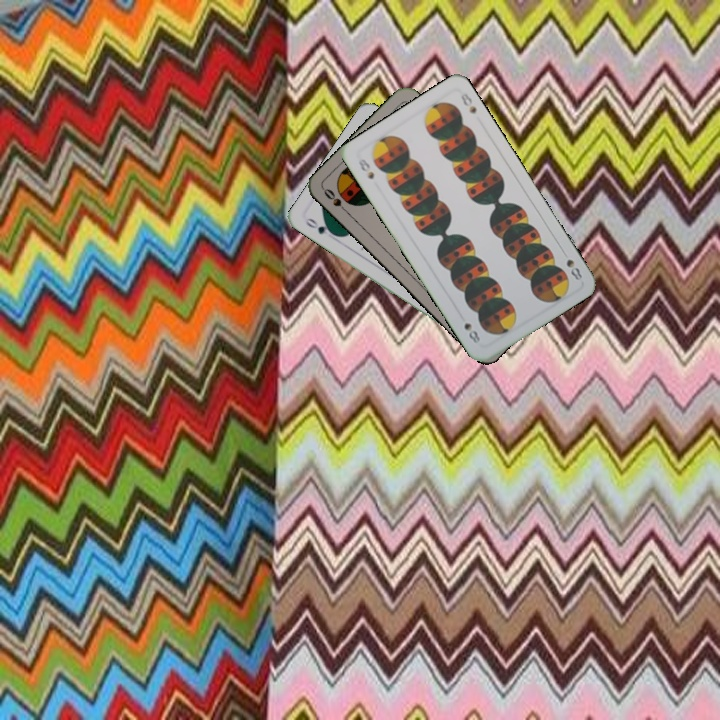GO: (301, 214, 339, 239)
S8: (558, 246, 585, 283), (354, 154, 377, 182)
SO: (319, 184, 352, 217)
